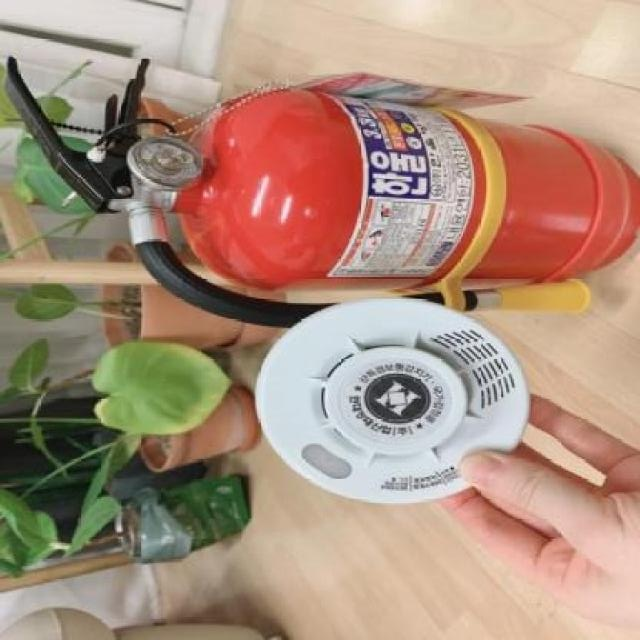fire extinguisher: (3, 56, 640, 329)
